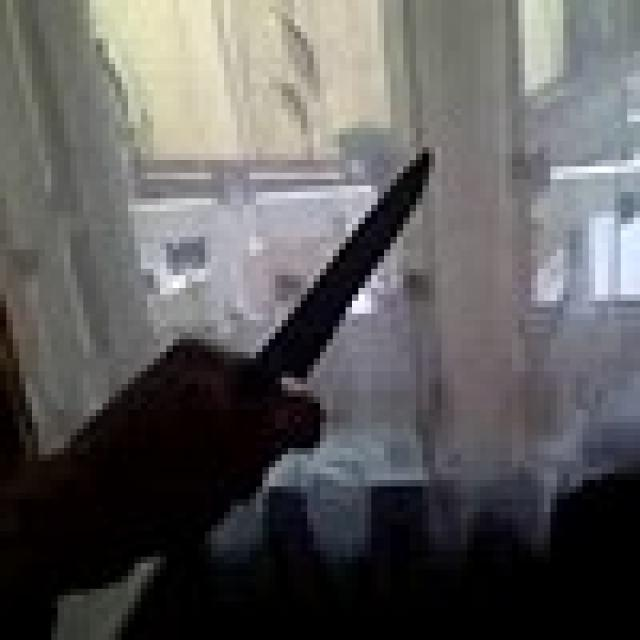Knife: (230, 141, 448, 429)
